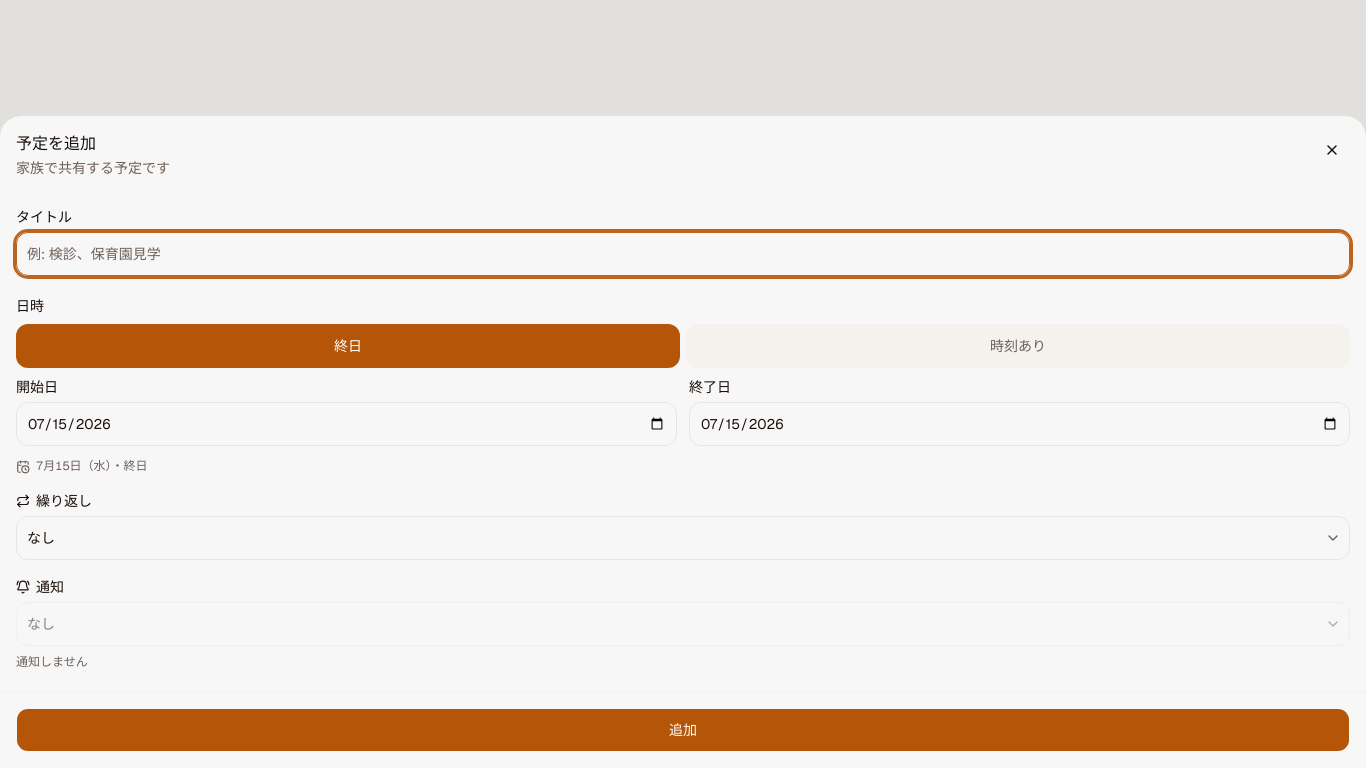
Test: CalendarEventFormSheet - 終日/時刻あり セグメント › 「時刻あり」で時刻入力が現れ、「終日」で消える
Expected: the text "タイトル" is shown, [16,210,72,226]
Click the button "時刻あり" at (1018, 346), box [686,324,1350,368]
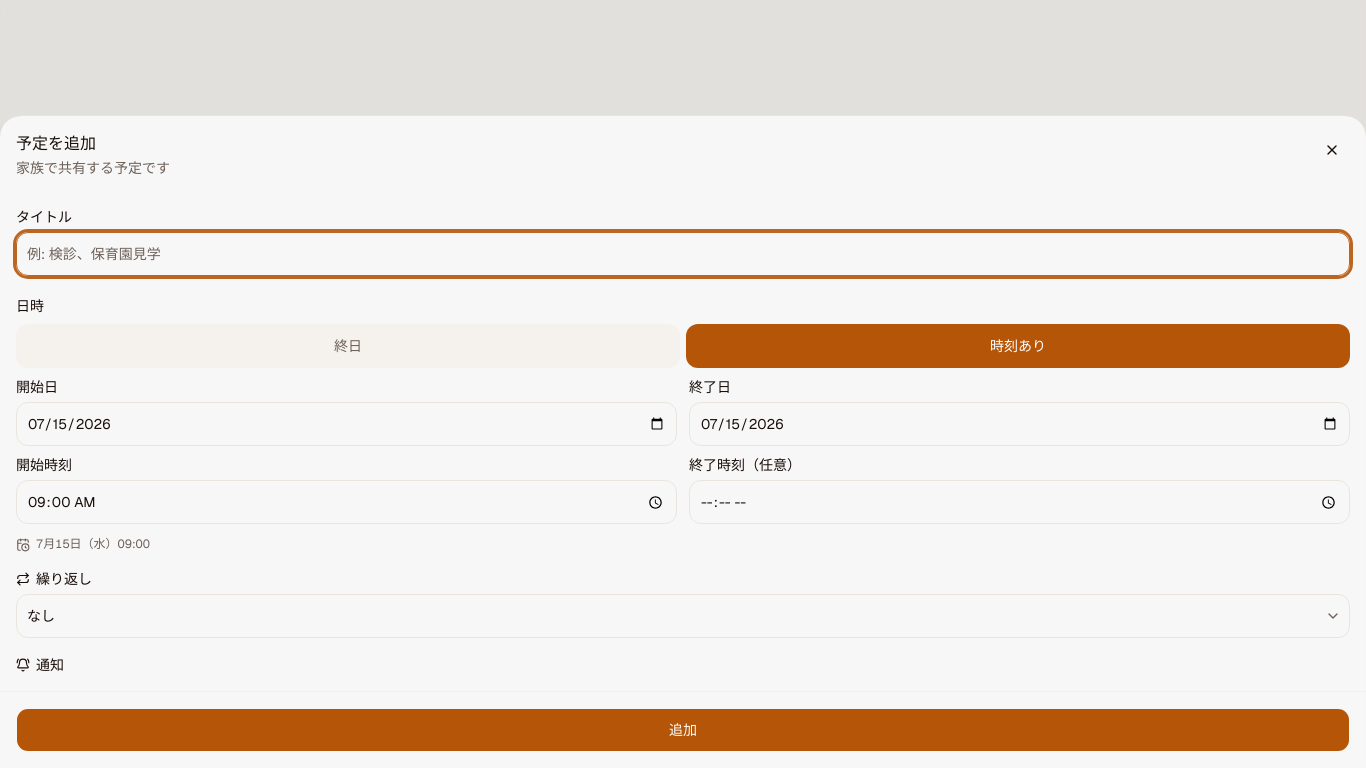
Now the time field with id "cal-start-time" is shown, box [16,480,677,524]
Now the time field with id "cal-end-time" is shown, box [689,480,1350,524]
Click the button "終日" at (348, 346), box [16,324,680,368]
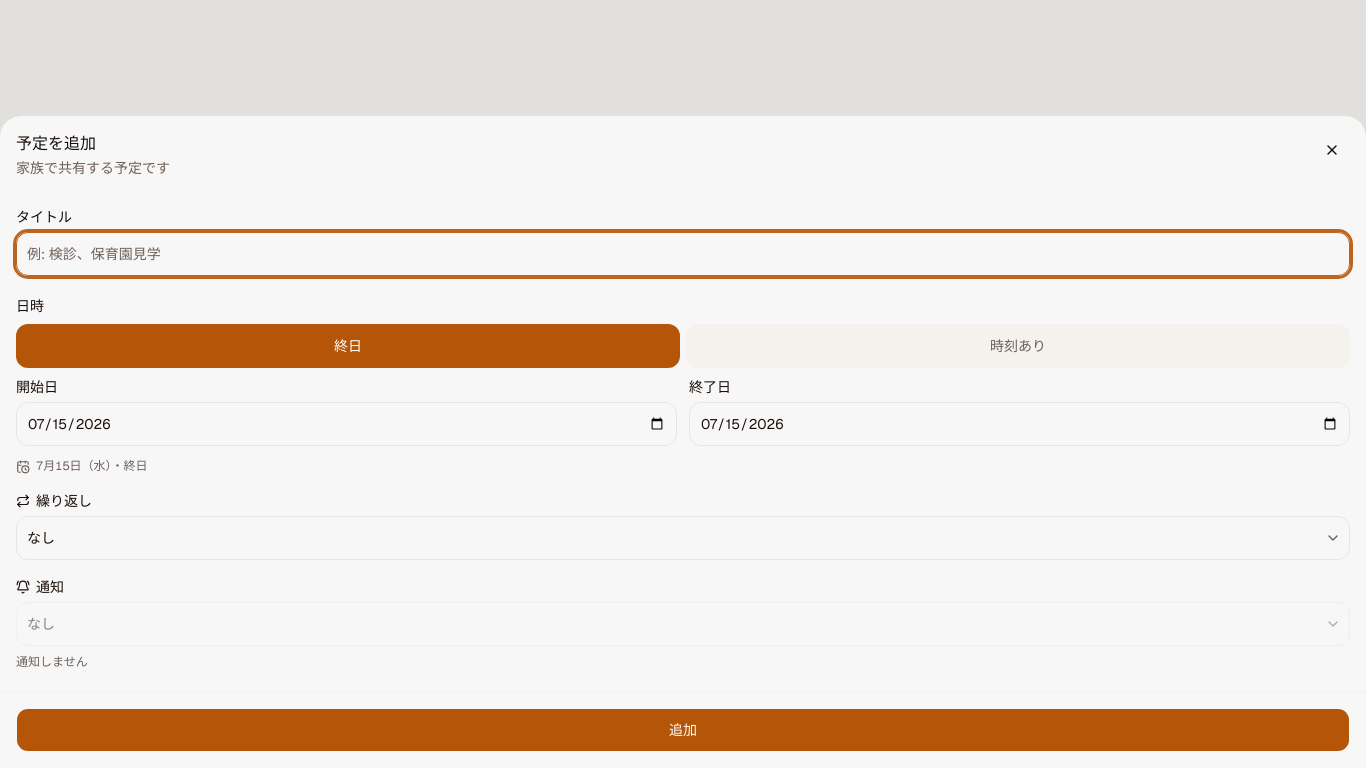
Now the label with id "cal-start-time" is gone
